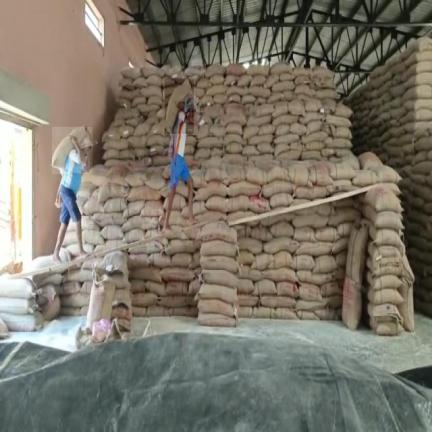Zone-Counting: (52, 127, 92, 259), (165, 79, 194, 222)
